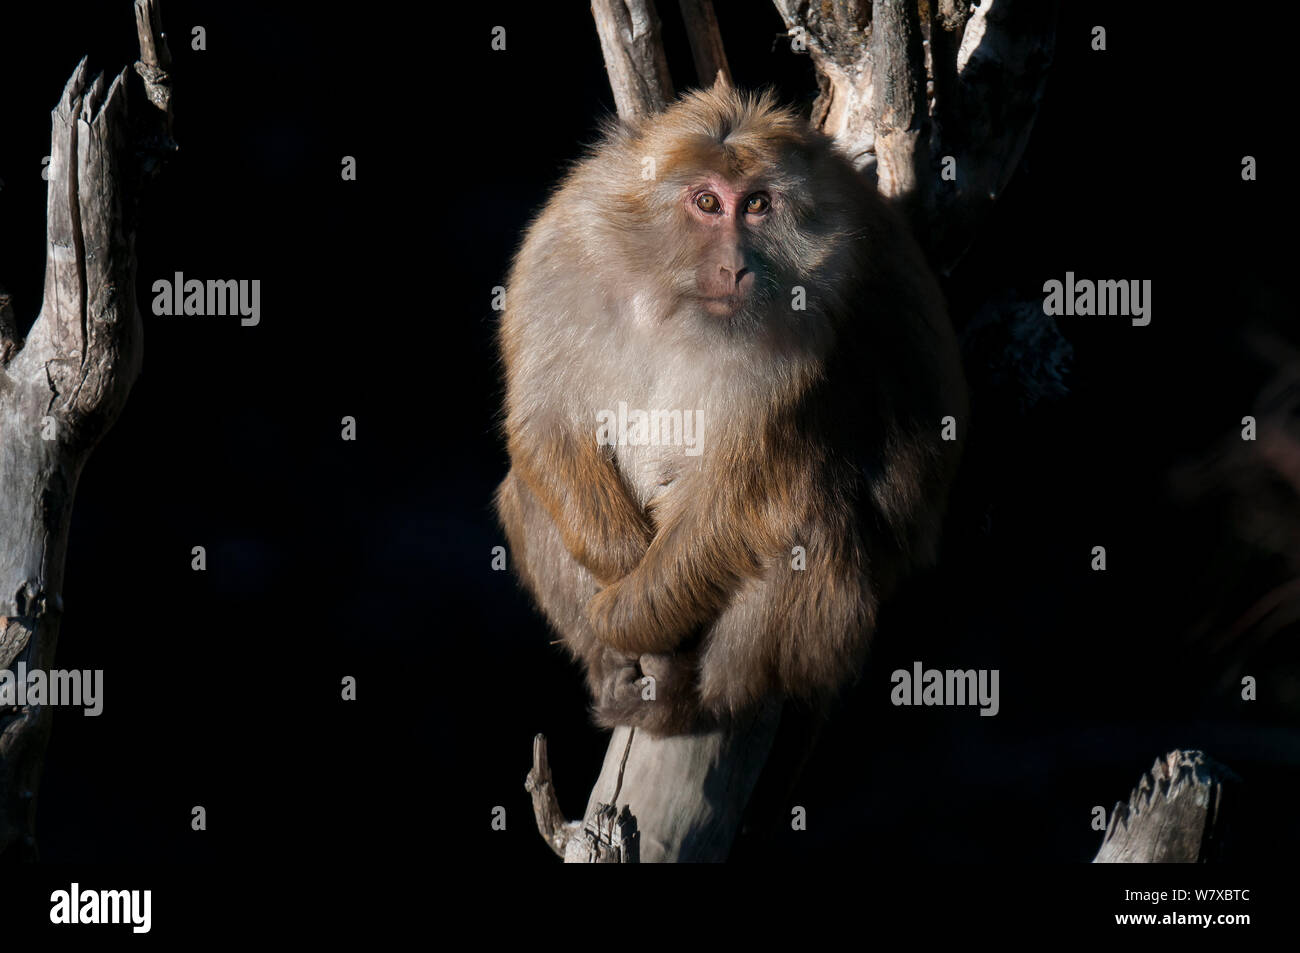monkey: (442, 70, 995, 758)
